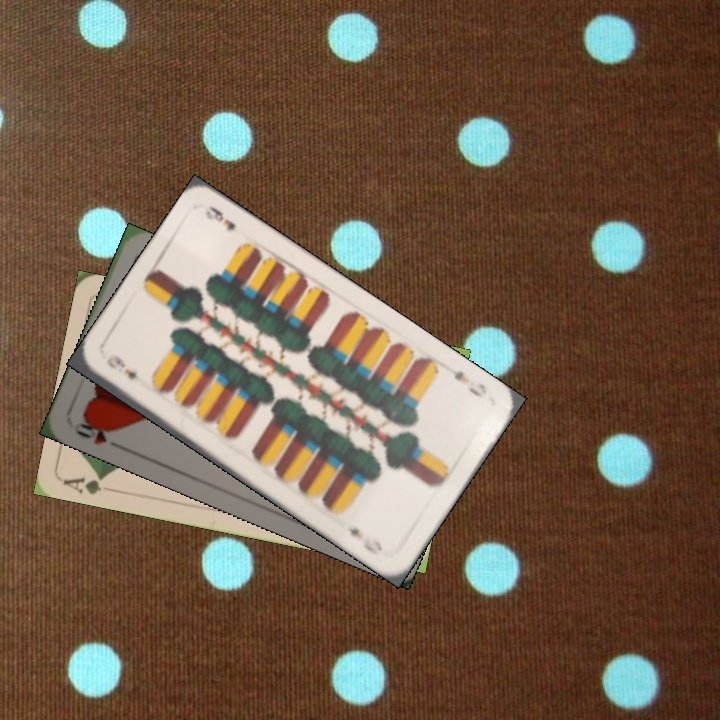E9: (443, 363, 489, 401), (102, 352, 142, 383)
GA: (60, 471, 119, 498)
HO: (70, 414, 126, 452)
